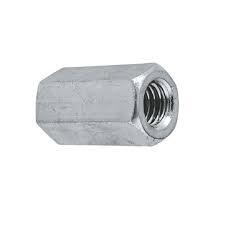Thread: (139, 80, 175, 126)
